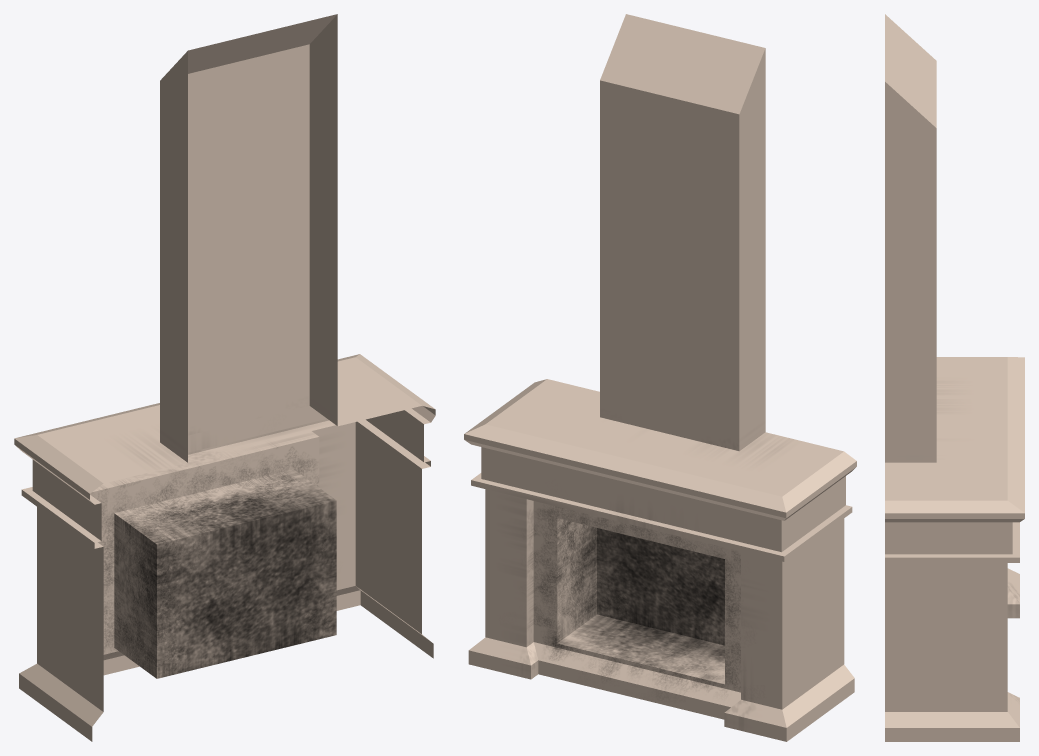
Rendered from Fireplace.fbx.
3 renders of one model, left to right at view 1: azimuth 30°, elevation 25°; view 2: azimuth 150°, elevation 25°; view 3: azimuth 270°, elevation 25°, orthographic. The views are drawn at different scales.
Parts seen in each view (by area): view 1: Fireplace; view 2: Fireplace; view 3: Fireplace.
Boxes of the visible parts, <box> form: Fireplace: <box>14,14,435,741</box>; Fireplace: <box>464,14,856,741</box>; Fireplace: <box>885,14,1024,741</box>.
Size of the model in its own units: 587 by 1083 by 223.
1 material, 1 textured.
